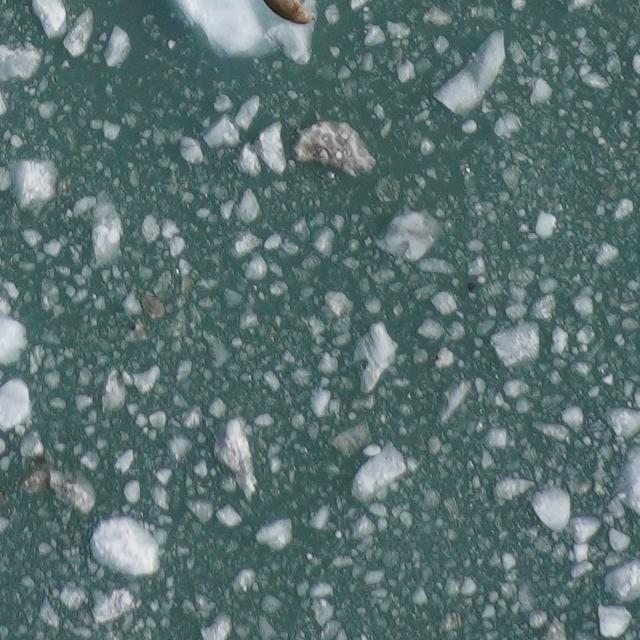seal: (257, 0, 321, 27)
